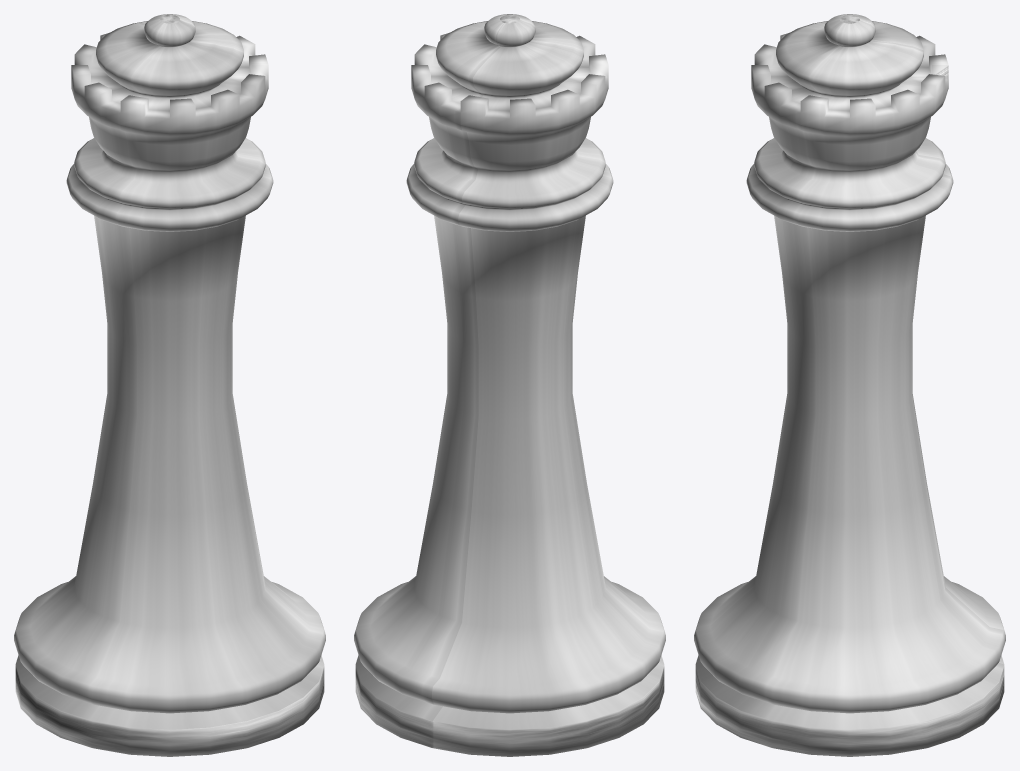
Rendered from white_queen.obj.
3 renders of one model, left to right at view 1: azimuth 30°, elevation 25°; view 2: azimuth 150°, elevation 25°; view 3: azimuth 270°, elevation 25°, orthographic.
Visible parts, largest first — view 1: Queen_Cylinder.025; view 2: Queen_Cylinder.025; view 3: Queen_Cylinder.025.
Part boxes in pixels (bbox=[...]): Queen_Cylinder.025: bbox=[14, 14, 325, 756]; Queen_Cylinder.025: bbox=[354, 14, 665, 756]; Queen_Cylinder.025: bbox=[694, 14, 1005, 756].
Size of the model in its own units: 1.51 by 3.6 by 1.51.
Materials: 1 (1 with a texture image).
